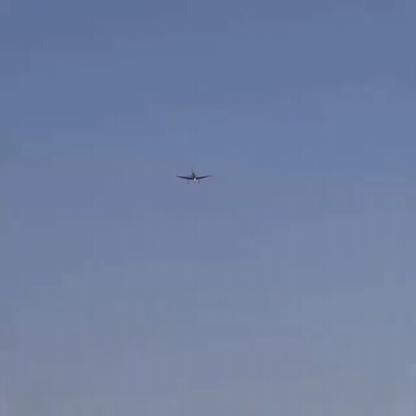CIV_Plane: (174, 168, 212, 184)
